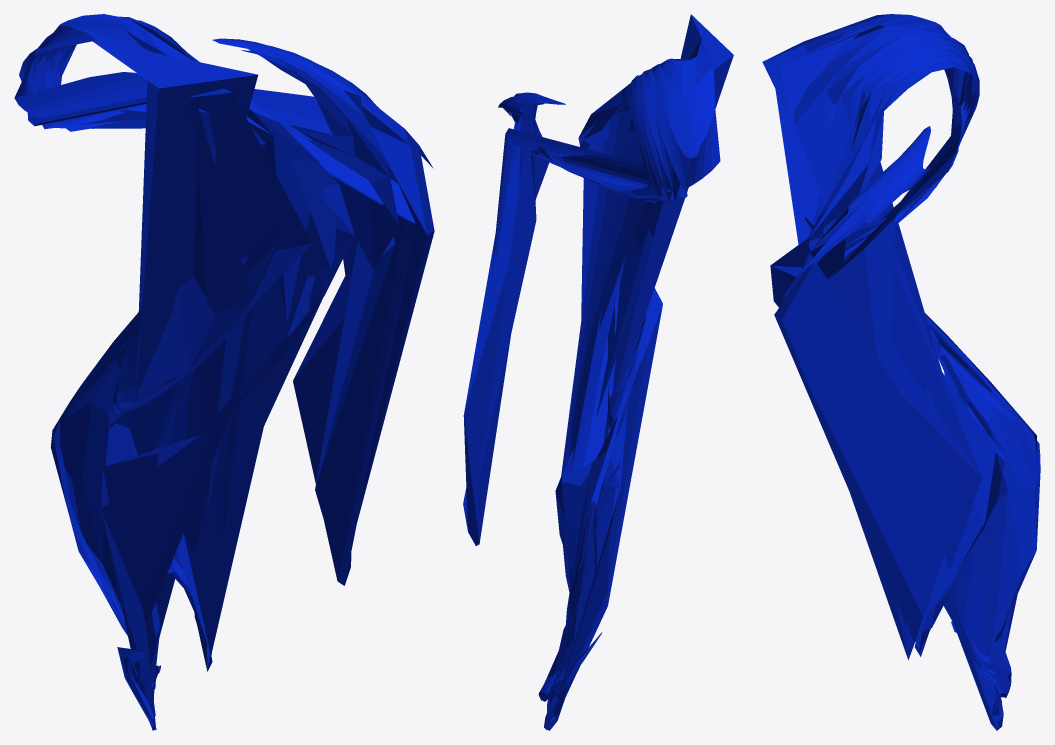
Rendered from ExportedBlenderFBXFile.fbx.
3 views of the same model, side by side, from view 1: azimuth 30°, elevation 25°; view 2: azimuth 150°, elevation 25°; view 3: azimuth 270°, elevation 25° (orthographic). The views are drawn at different scales.
Visible parts, largest first — view 1: Cube; view 2: Cube; view 3: Cube.
Boxes of the visible parts, box(x1,y1,x2,y2) form: Cube: box(14, 14, 434, 730); Cube: box(463, 14, 733, 730); Cube: box(762, 14, 1040, 730).
Size of the model in its own units: 2.94 by 6.52 by 2.48.
